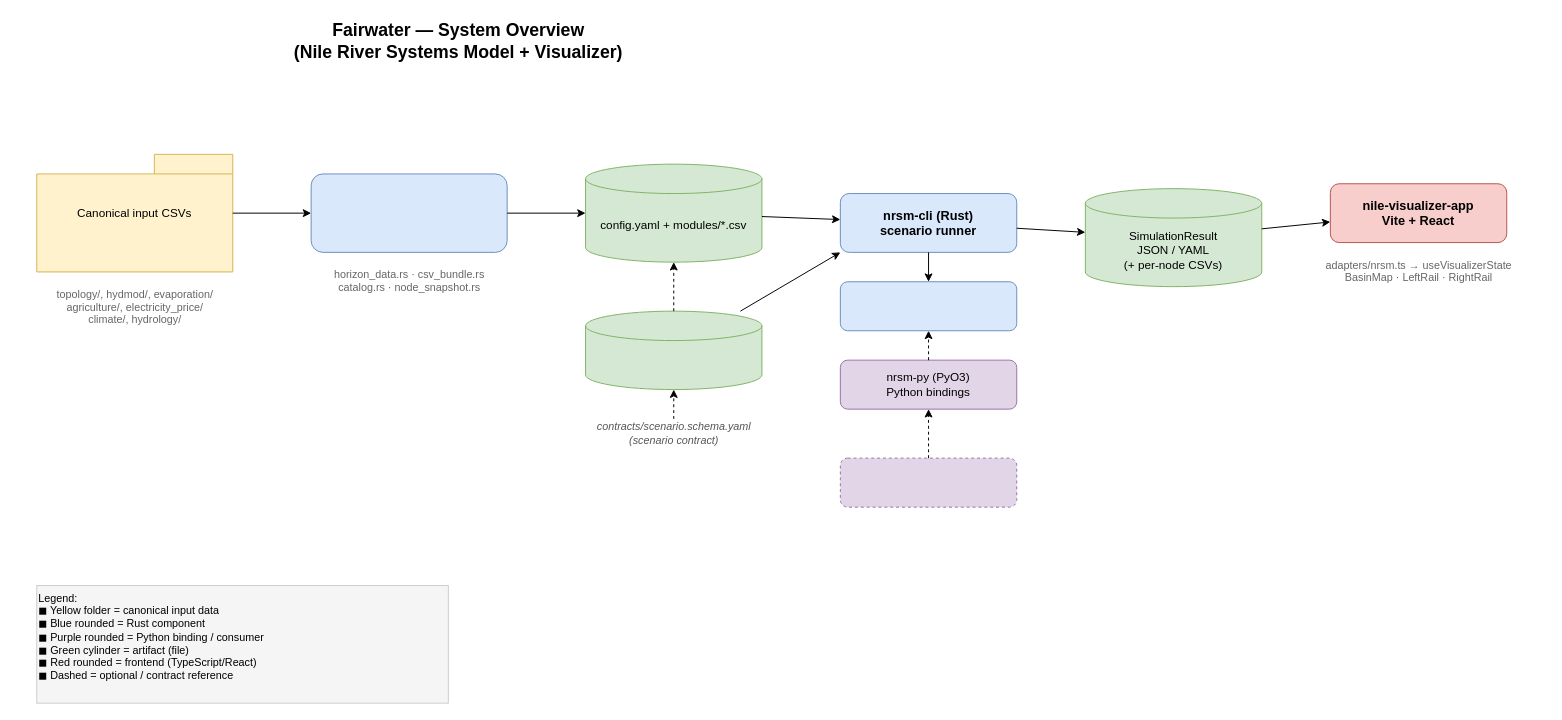
Image size: 1562x720. Some labels were removed from this diagram. The box of each missing label's shape, as (x1, y1, x2, y2) in pixels:
External optimizer: (839, 457, 1017, 507)
nrsm-dataloader (Rust) assemble | seed: (310, 173, 507, 252)
nrsm-sim-core daily DAG engine: (839, 281, 1017, 331)
scenario.yaml: (585, 310, 762, 390)
